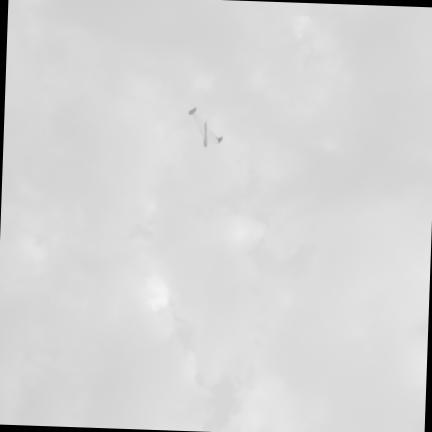Shahed: (189, 107, 221, 147)
